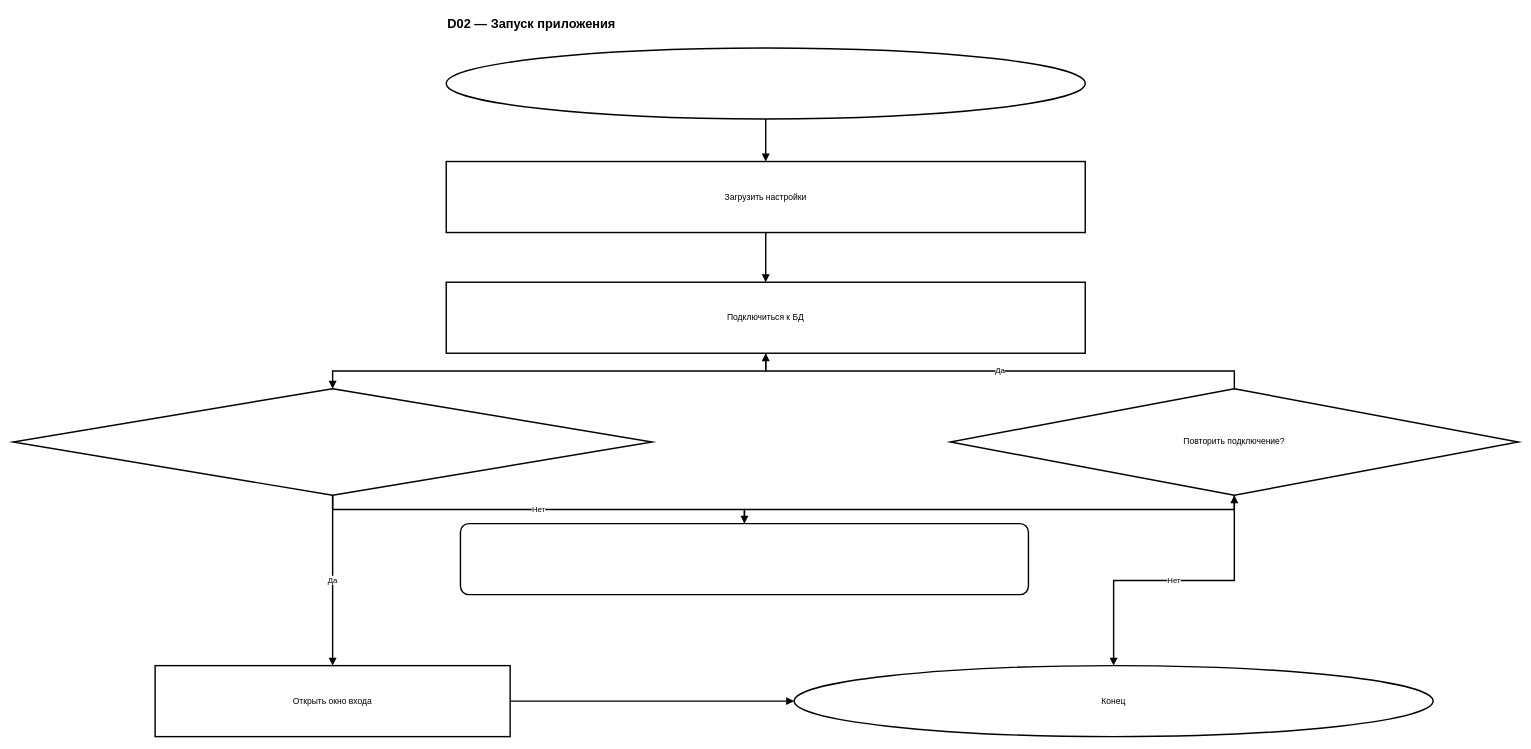
Some shapes in this 1531 by 749 pixel diagram are drawn without their labels. The centre of each missing label's shape, as x and y in pixels:
Начало: the point at 765,83
Подключение успешно?: the point at 332,442
Показать понятное сообщение о проблеме подключения: the point at 744,559
